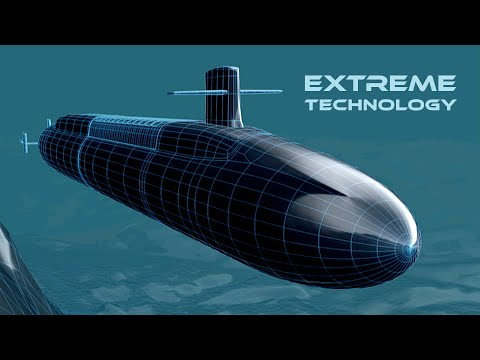Submarine: (39, 66, 420, 288)
